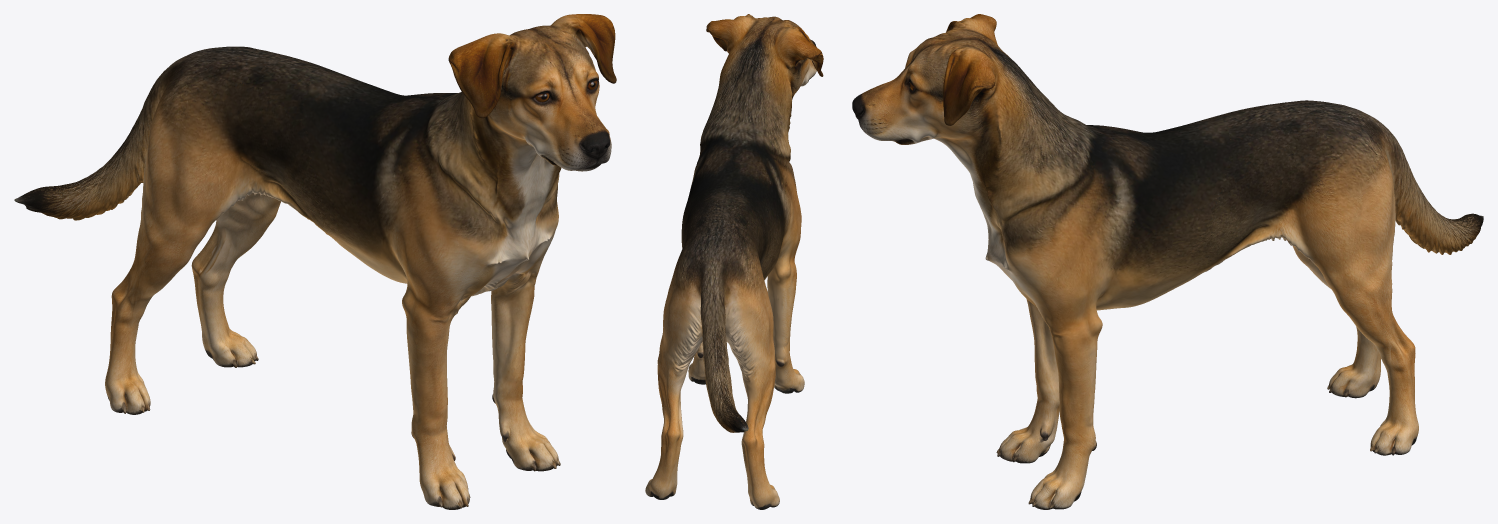
Rendered from dog.glb.
3 views of the same model, side by side, from view 1: azimuth 30°, elevation 25°; view 2: azimuth 150°, elevation 25°; view 3: azimuth 270°, elevation 25° (orthographic). The views are drawn at different scales.
Parts seen in each view (by area): view 1: dog; view 2: dog; view 3: dog.
Part boxes in pixels (x1=…): dog: x1=14, y1=14, x2=616, y2=509; dog: x1=645, y1=14, x2=823, y2=509; dog: x1=852, y1=14, x2=1483, y2=509.
Size of the model in its own units: 0.5291 by 0.7448 by 0.9499.
Materials: 1 (1 with a texture image).
